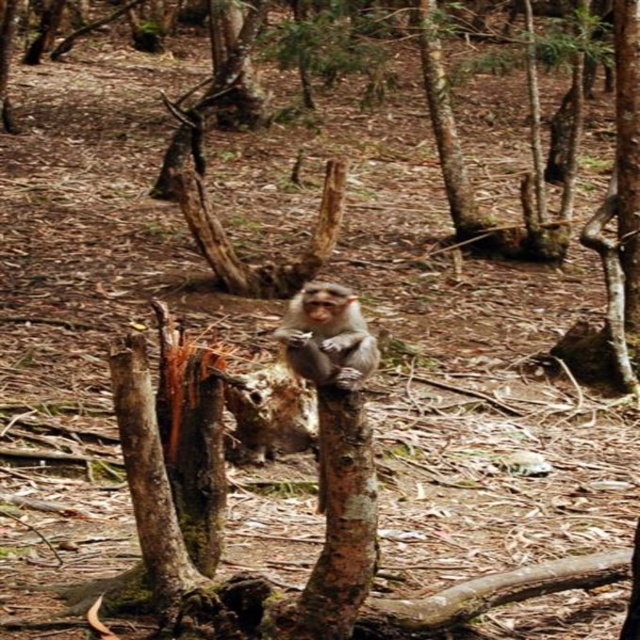Monkey: (264, 278, 389, 400)
